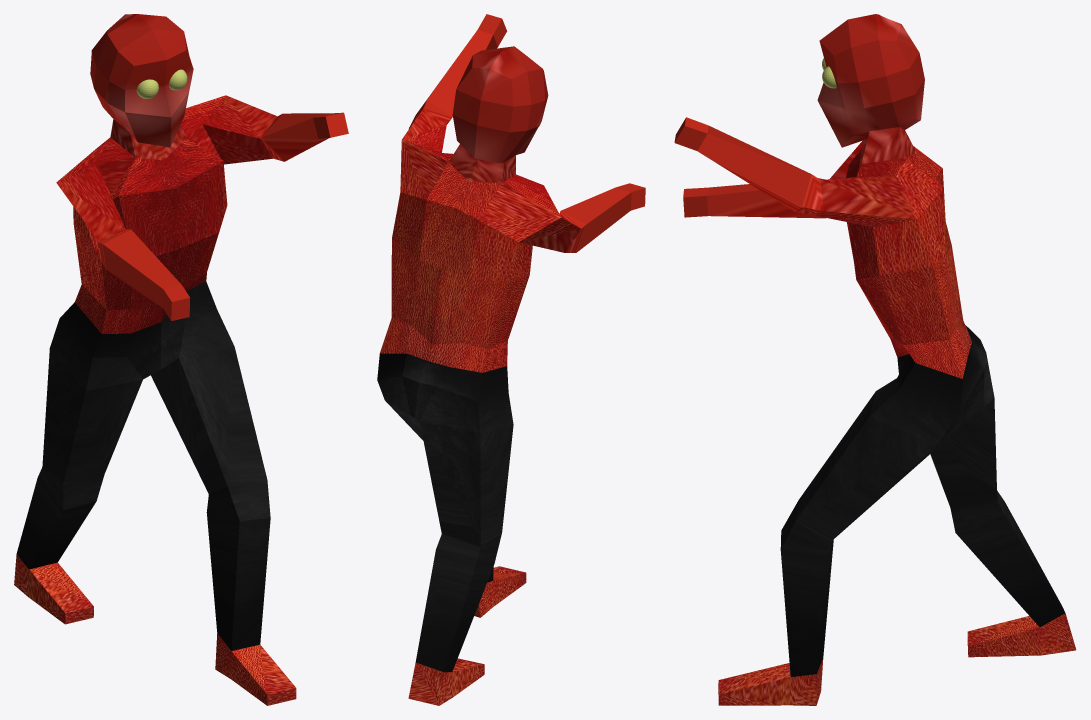
File: laySheary_000023.obj
3 views of the same model, side by side, from view 1: azimuth 30°, elevation 25°; view 2: azimuth 150°, elevation 25°; view 3: azimuth 270°, elevation 25° (orthographic). The views are drawn at different scales.
Visible parts, largest first — view 1: Cube; view 2: Cube; view 3: Cube.
Boxes of the visible parts, x1=… form: Cube: x1=14, y1=14, x2=348, y2=705; Cube: x1=377, y1=14, x2=645, y2=705; Cube: x1=674, y1=14, x2=1076, y2=705.
Size of the model in its own units: 5.19 by 15.81 by 8.83.
Materials: 3 (2 with a texture image).
